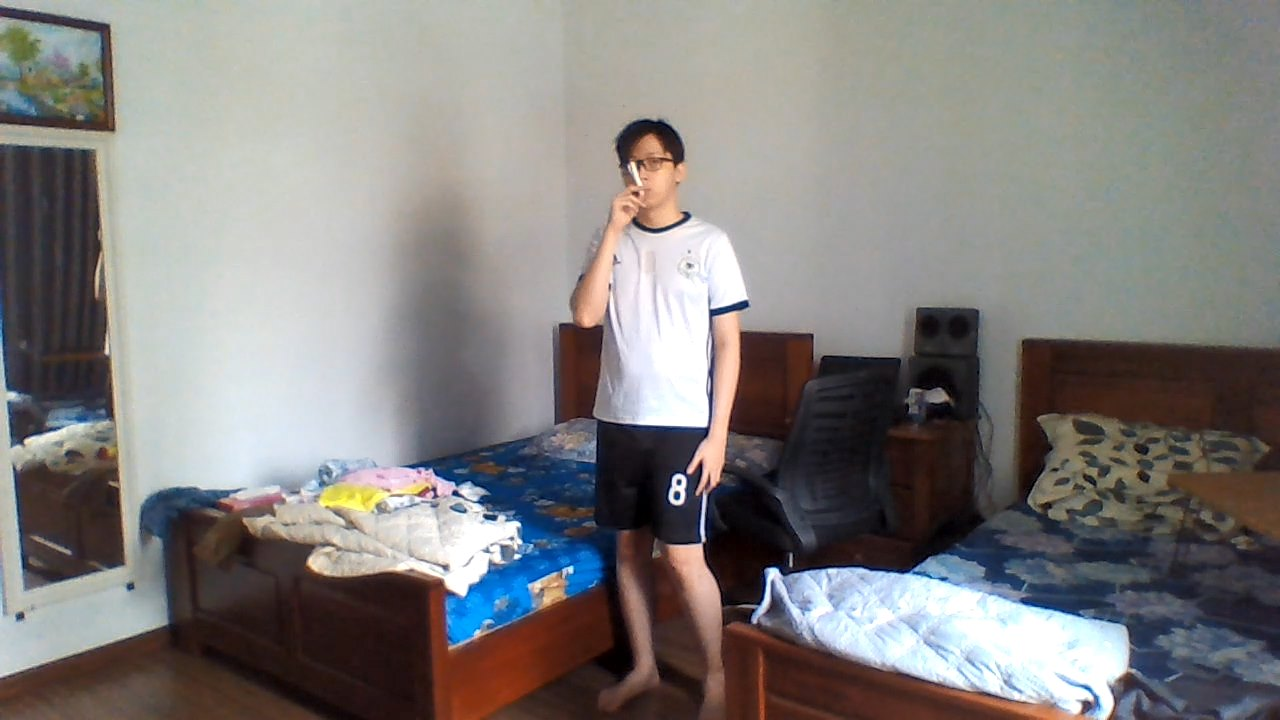cigarette: (630, 161, 646, 193)
person: (562, 108, 753, 629)
